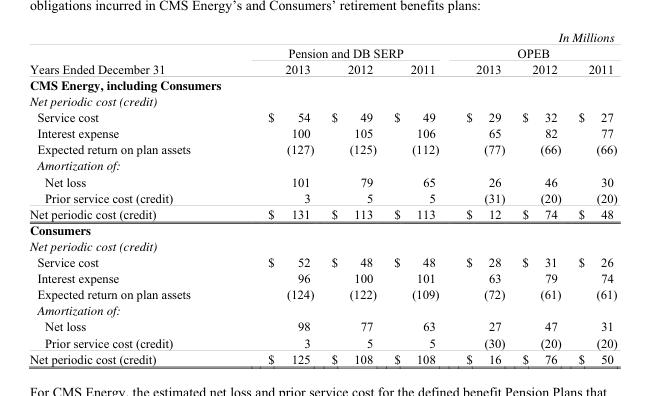table: (28, 28, 616, 365)
table column: (28, 28, 228, 365), (228, 28, 322, 365), (384, 28, 452, 365), (322, 28, 384, 365), (452, 28, 513, 365), (513, 28, 569, 365), (569, 28, 616, 365)
table column header: (28, 28, 616, 75)
table projected row header: (28, 75, 616, 93), (28, 220, 616, 238), (28, 156, 616, 173), (28, 301, 616, 318), (28, 93, 616, 109), (28, 238, 616, 254)
table row: (28, 28, 616, 60), (28, 75, 616, 93), (28, 220, 616, 238), (28, 124, 616, 141), (28, 156, 616, 173), (28, 301, 616, 318), (28, 93, 616, 109), (28, 173, 616, 189), (28, 189, 616, 205), (28, 238, 616, 254), (28, 269, 616, 285), (28, 285, 616, 301), (28, 318, 616, 334), (28, 334, 616, 350), (28, 60, 616, 75), (28, 109, 616, 124), (28, 141, 616, 156), (28, 205, 616, 220), (28, 254, 616, 269), (28, 350, 616, 365)
table spanning cell: (28, 28, 228, 75), (228, 28, 452, 60), (452, 28, 616, 60)
